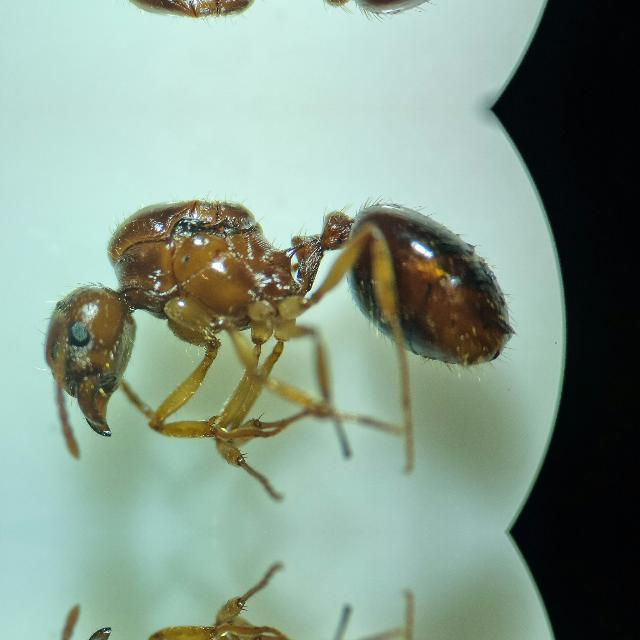Apheanogaster: (4, 161, 552, 469)
